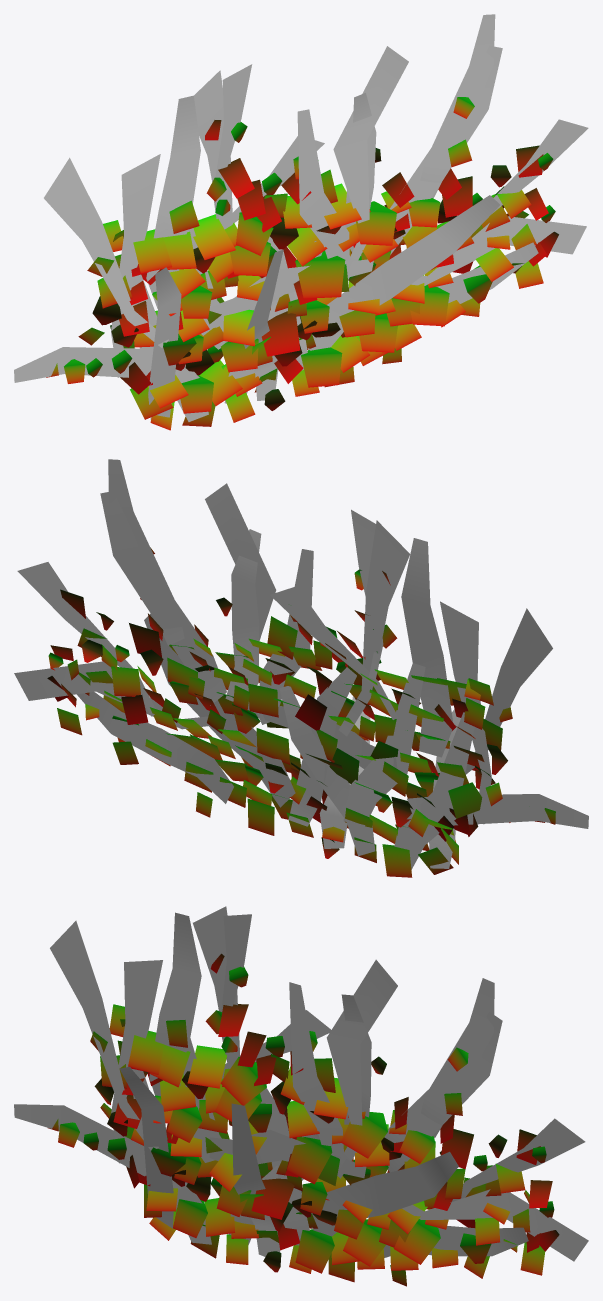
The model's file is Var3_LOD3.fbx.
The picture shows the model from 3 angles, top to bottom: view 1: azimuth 30°, elevation 25°; view 2: azimuth 150°, elevation 25°; view 3: azimuth 330°, elevation 25°; orthographic projection.
Parts seen in each view (by area): view 1: _df77_Var3_LOD3; view 2: _df77_Var3_LOD3; view 3: _df77_Var3_LOD3.
Part boxes in pixels (box(x1,y1,x2,y2)): _df77_Var3_LOD3: box(14, 14, 588, 430); _df77_Var3_LOD3: box(14, 459, 588, 877); _df77_Var3_LOD3: box(14, 906, 588, 1286).
Bounding box in the file's own units: 102 × 60.25 × 10.05.
